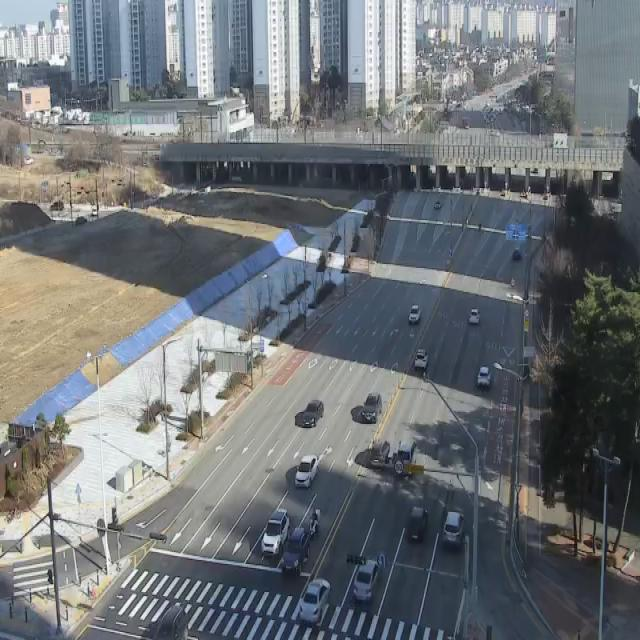Car: (300, 578, 332, 624), (282, 527, 310, 574), (262, 509, 290, 556), (154, 605, 188, 640), (354, 560, 381, 603), (444, 508, 466, 547), (407, 508, 429, 542), (296, 455, 318, 488), (362, 392, 382, 422), (302, 400, 324, 427), (370, 440, 390, 467), (476, 366, 492, 388), (414, 349, 429, 370), (408, 305, 421, 324), (469, 309, 479, 324)
Motorcycle: (307, 506, 321, 531)
